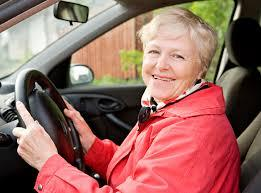Awake: (121, 2, 219, 109)
